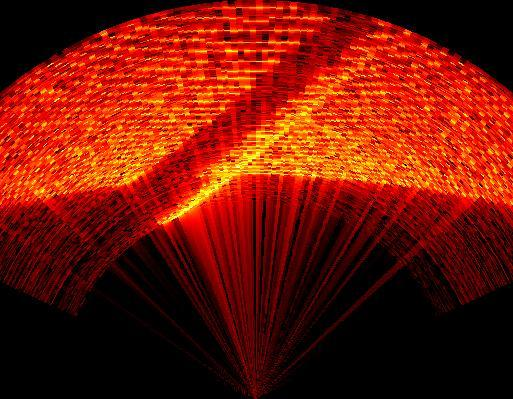pipe: (128, 10, 377, 225)
